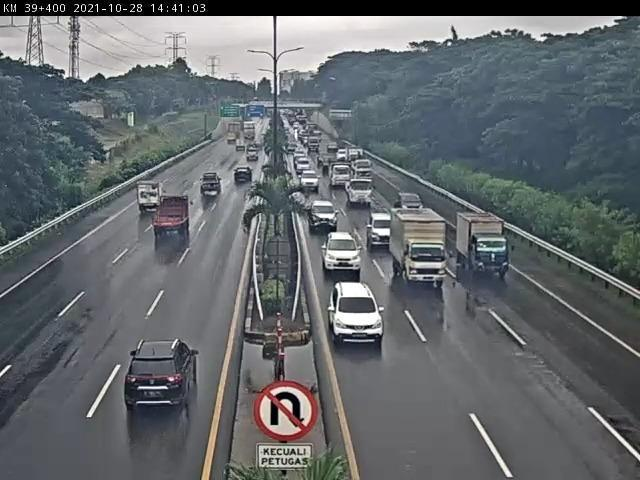car: (124, 338, 199, 412), (328, 281, 387, 347), (323, 232, 364, 276), (310, 200, 340, 232), (369, 212, 394, 250), (396, 192, 426, 214), (200, 171, 224, 195)
truck: (390, 207, 449, 288), (457, 212, 509, 278), (153, 195, 194, 236), (139, 179, 168, 211)
